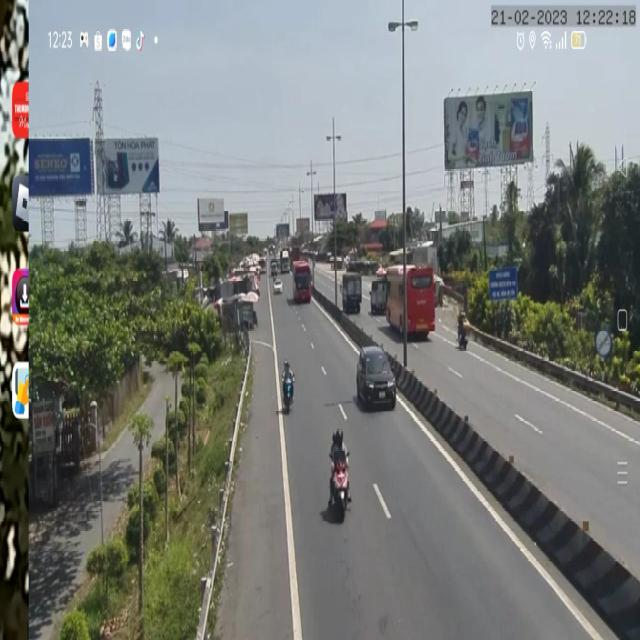bus: (383, 265, 437, 347), (292, 260, 313, 305)
car: (356, 342, 397, 412), (272, 278, 283, 292)
motorbike: (327, 424, 353, 523), (281, 359, 297, 416), (458, 311, 469, 349)
truck: (341, 268, 364, 316), (370, 273, 390, 322)
